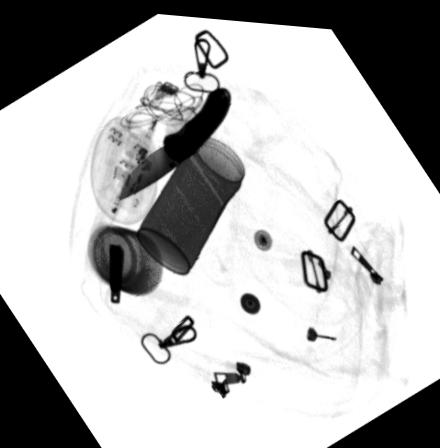Knife: (116, 82, 232, 198)
